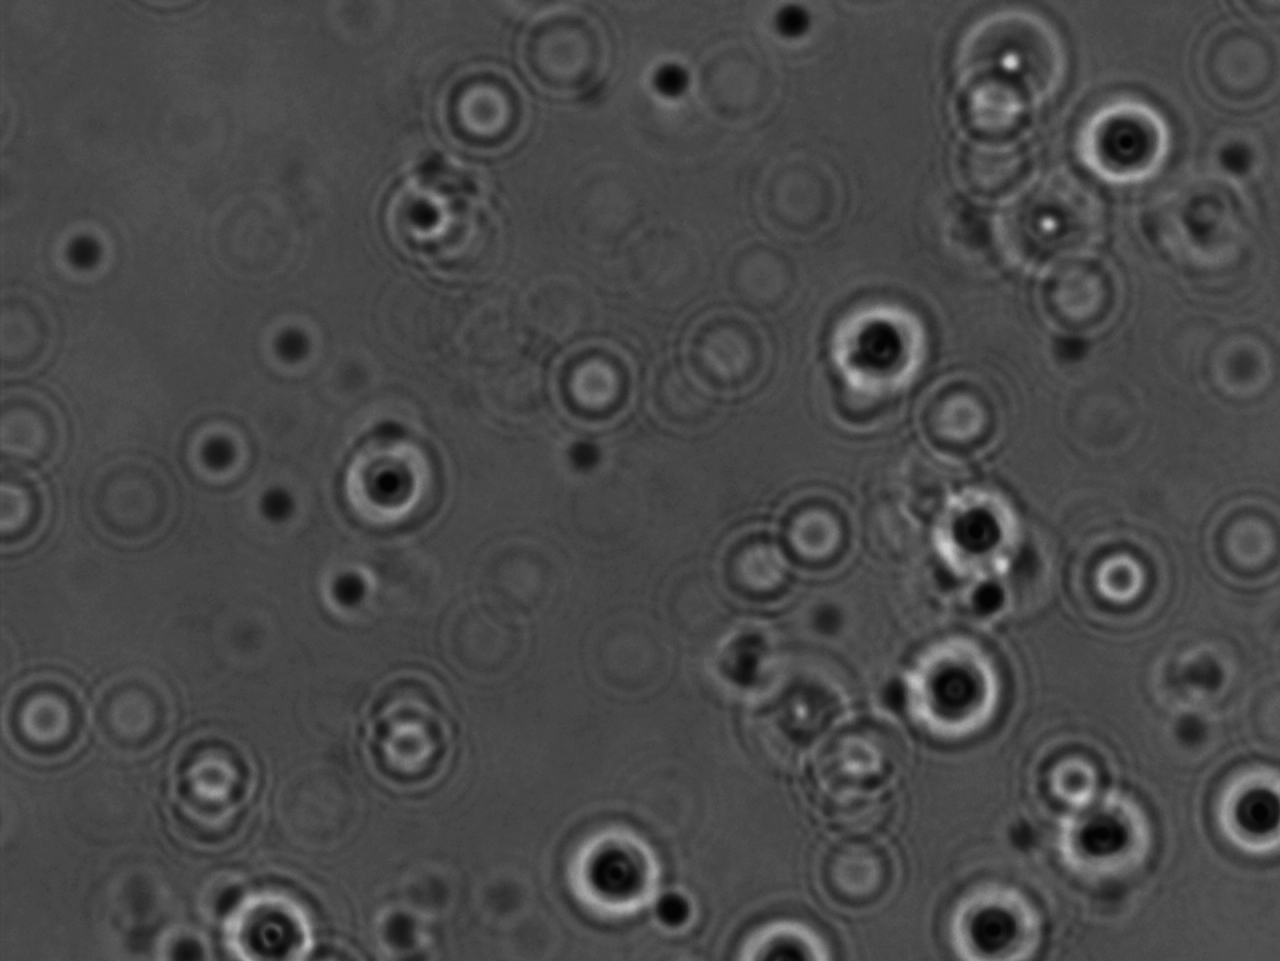depth:-16: (539, 809, 679, 941), (1040, 772, 1180, 902), (888, 633, 1020, 765), (811, 279, 940, 408), (331, 413, 455, 539), (921, 483, 1038, 602), (1067, 82, 1179, 193), (908, 875, 1050, 961), (1196, 740, 1280, 876)
